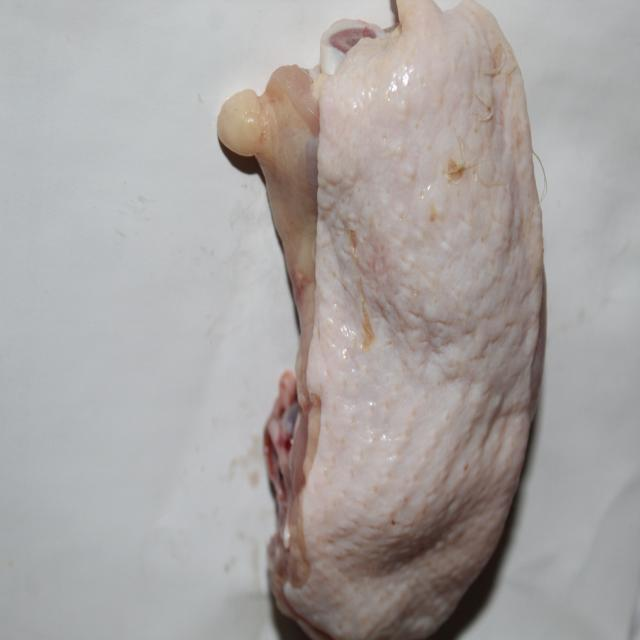chicken: (220, 2, 543, 640)
